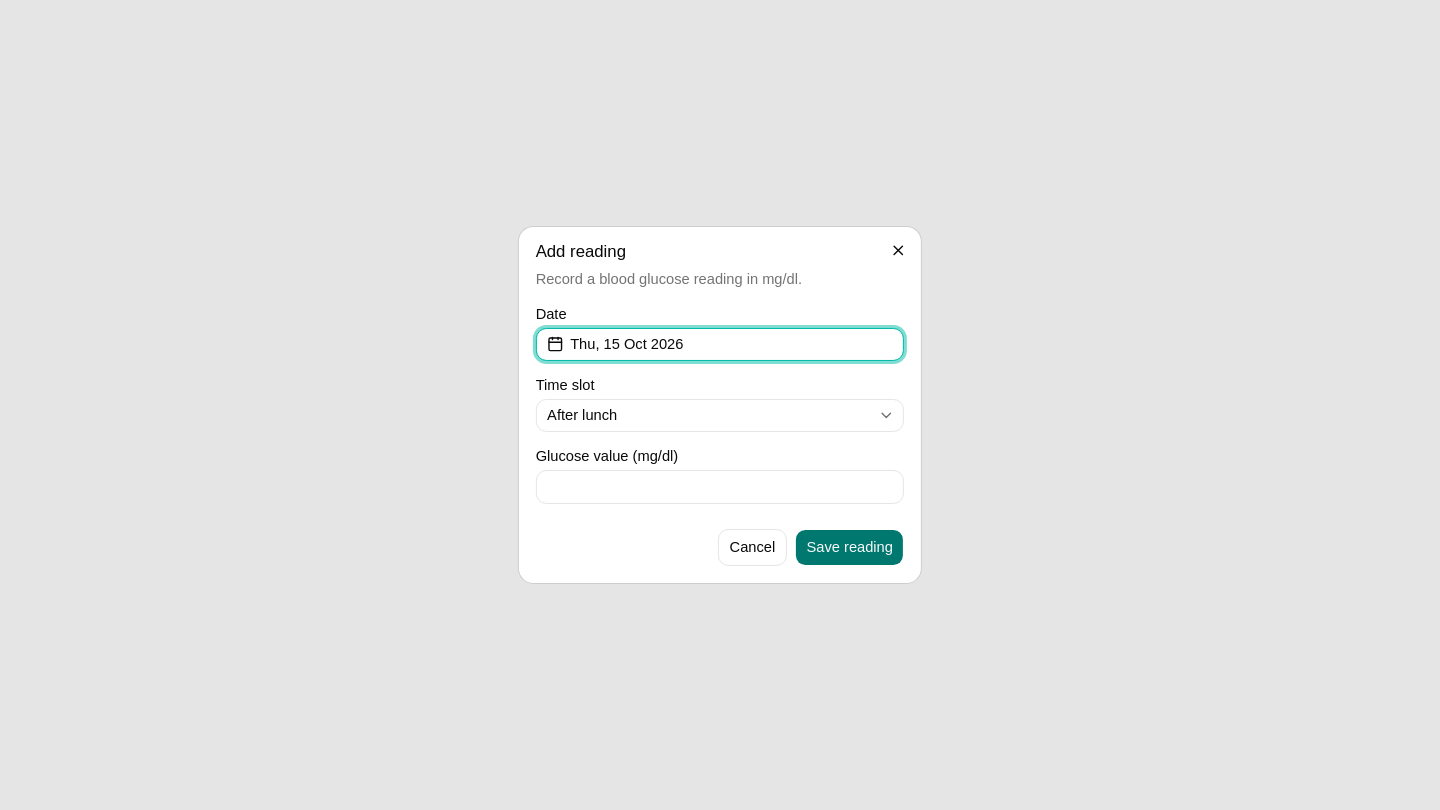
Test: ReadingDialog › rejects the value "39"
Type "39" into the field labelled "Glucose value (mg/dl)".
click(720, 487); type("39")  # box x1=536 y1=470 x2=904 y2=503
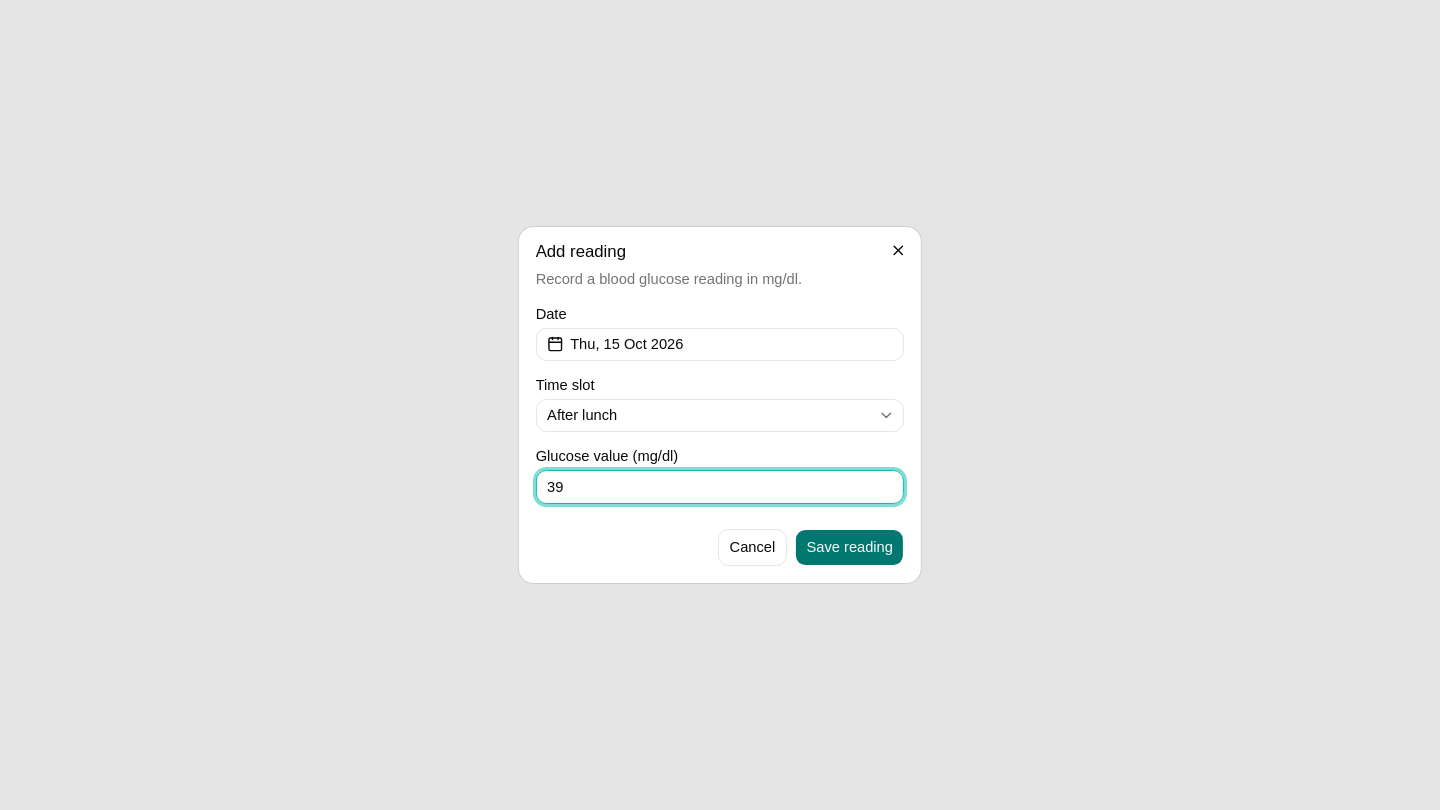
Click the button "Save reading".
click(850, 547)  # box x1=795 y1=529 x2=904 y2=566
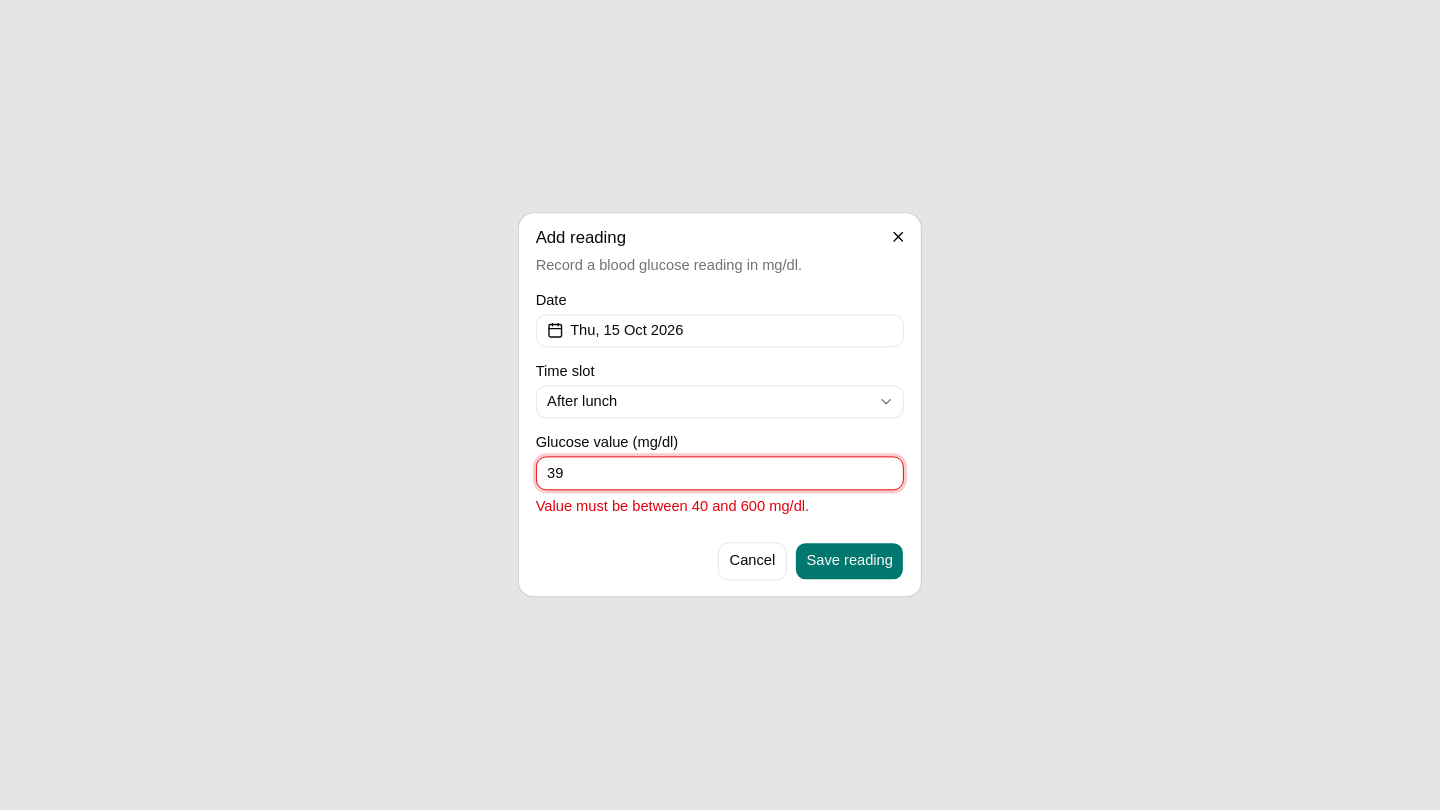
Expected: the text "Value must be between 40 and 600 mg/dl." is shown, x1=536 y1=498 x2=809 y2=514
